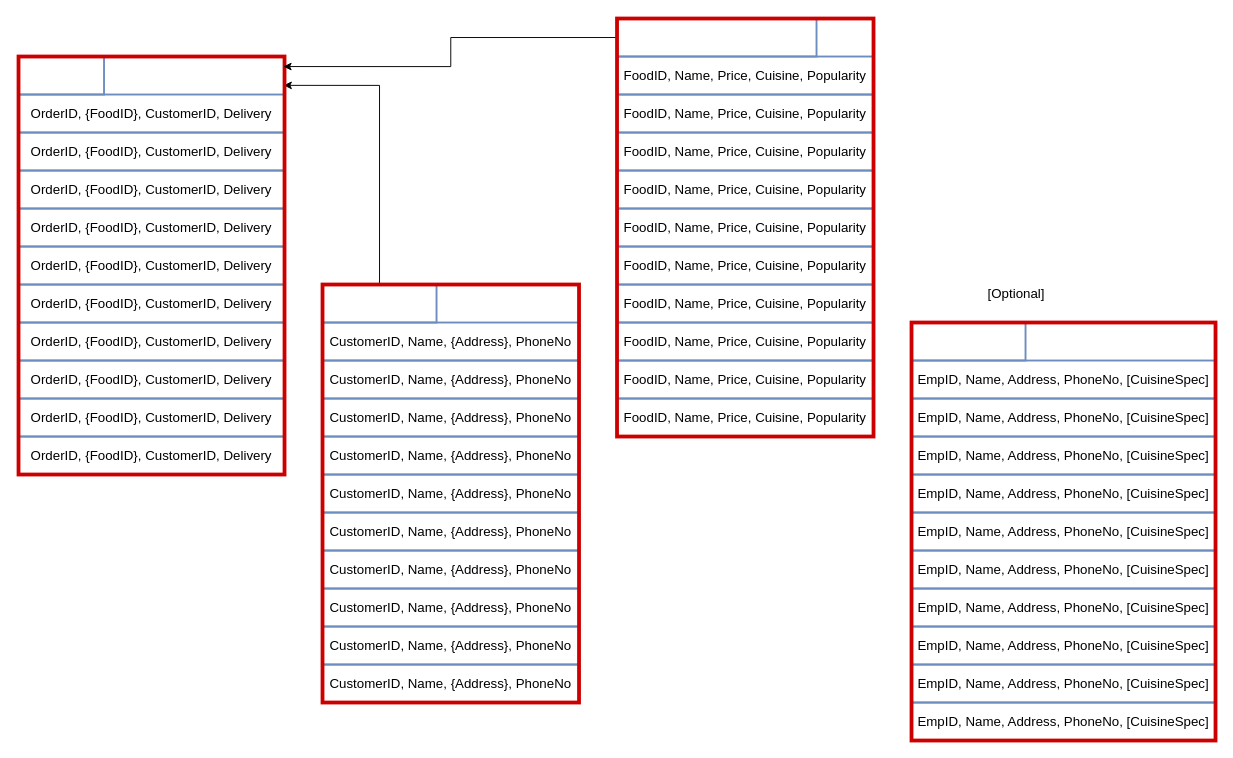
The diagram is 1233 pixels wide and 758 high, and some of its shapes have lost their labels. Here are the shapes that lost their labels. From the top down, the centre of each, then its label:
At (x=716, y=37): "No.FoodItems, DeliveryPrice".
At (x=60, y=75): "No.Orders".
At (x=379, y=303): "No.Customers".
At (x=968, y=341): "No.Employees".
